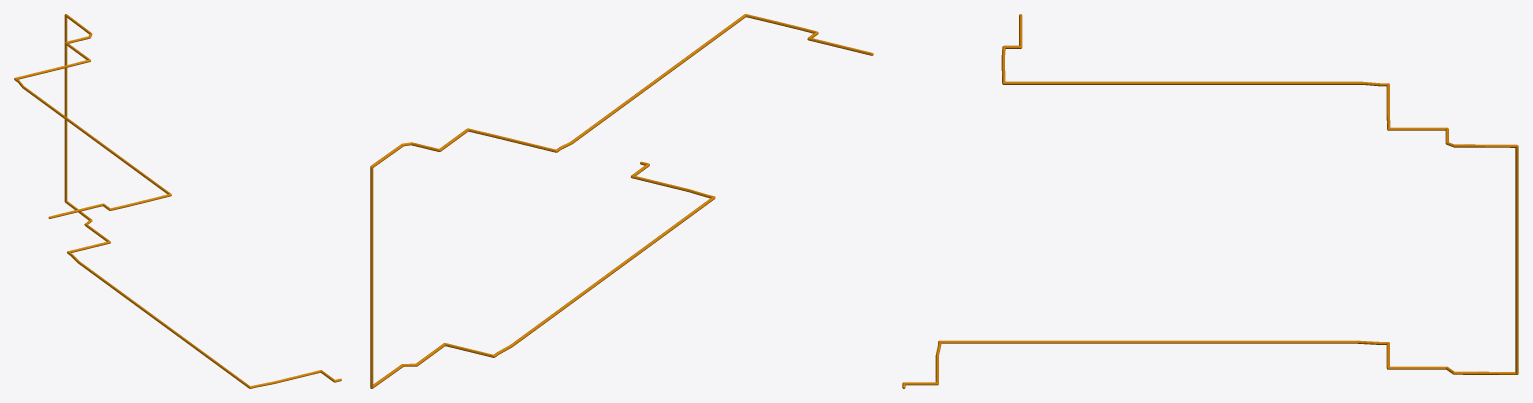
3 renders of one model, left to right at view 1: azimuth 30°, elevation 25°; view 2: azimuth 150°, elevation 25°; view 3: azimuth 270°, elevation 25°, orthographic. The views are drawn at different scales.
Size of the model in its own units: 2067 by 1520 by 3687.
